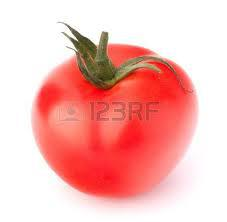tomato: (31, 41, 202, 197)
